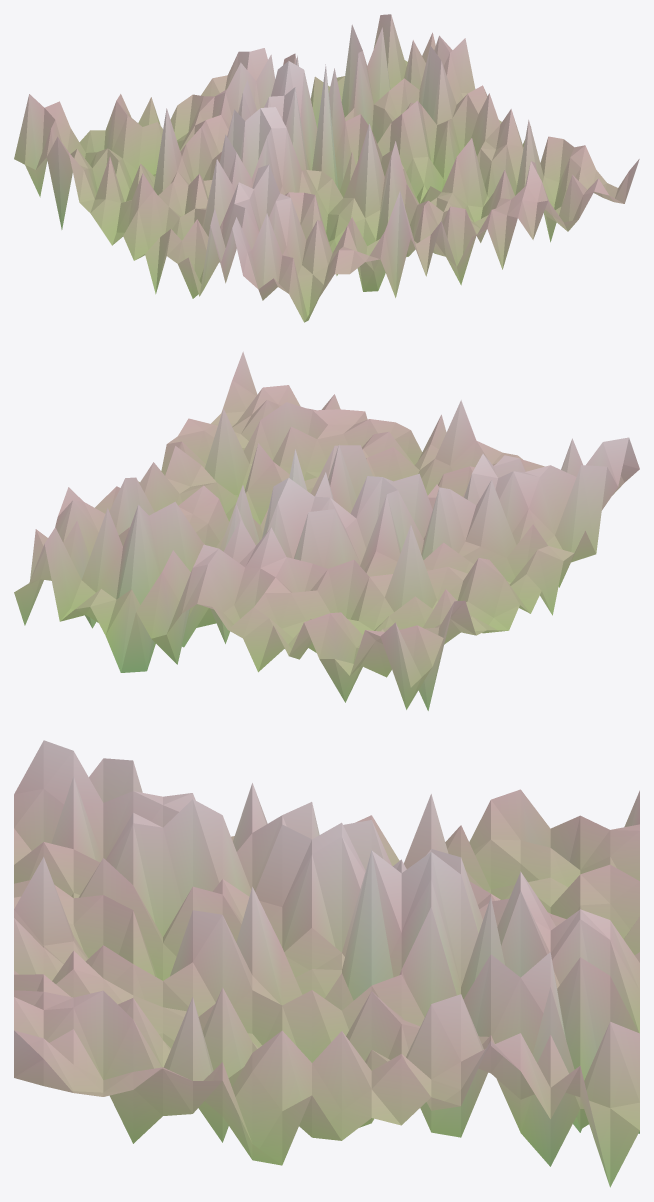
Rendered from terrain_3d.glb.
3 renders of one model, top to bottom at view 1: azimuth 30°, elevation 25°; view 2: azimuth 150°, elevation 25°; view 3: azimuth 270°, elevation 25°, orthographic. The views are drawn at different scales.
Visible parts, largest first — view 1: terrain; view 2: terrain; view 3: terrain.
Part boxes in pixels (<box>): terrain: <box>14,14,639,322</box>; terrain: <box>14,351,639,710</box>; terrain: <box>14,740,639,1187</box>.
Size of the model in its own units: 2 by 0.8371 by 2.
